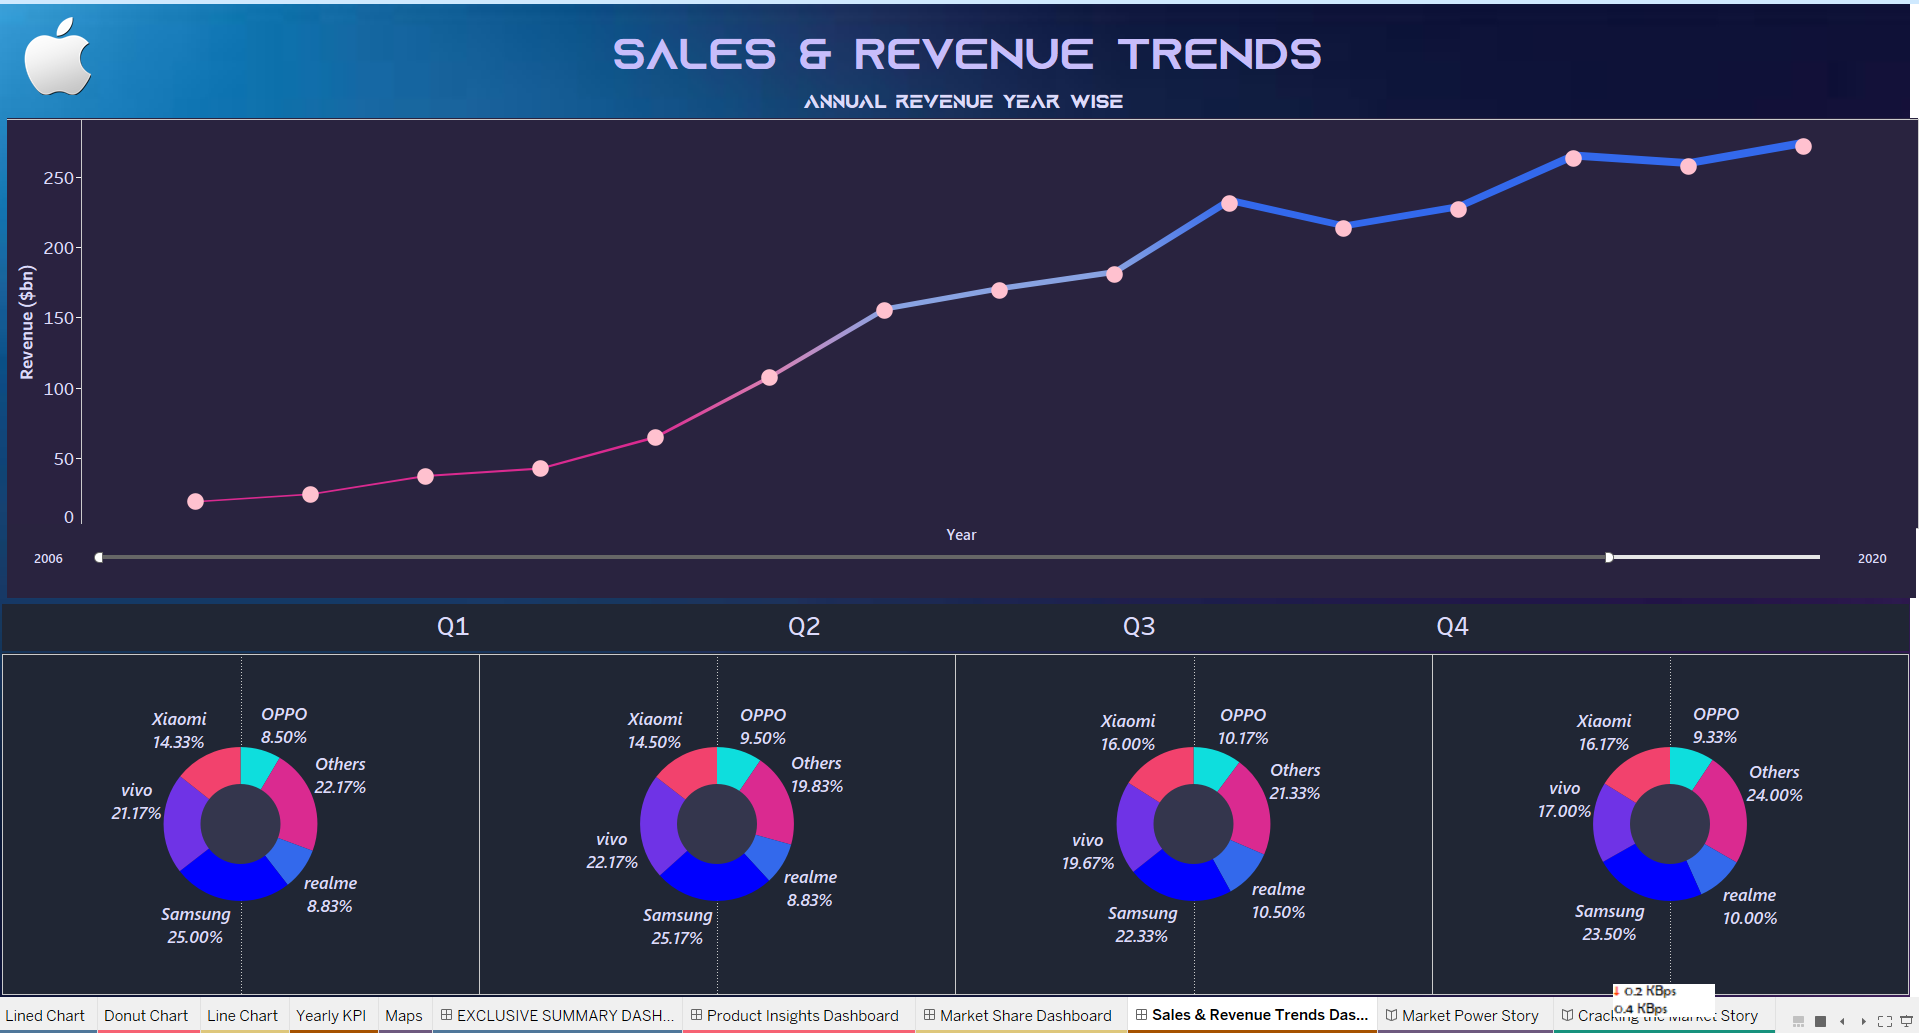

The page's visual inventory and layout, read from the dashboard file:
{"tool":"tableau","page":{"name":"Sales & Revenue Trends Dashboard","canvas":[1000,1000],"units":"permille","ordinal":3},"visuals":[{"type":"image","param":"Image/apple-logo-silver-gradient-background-ucqyu9mach40quya.png","box":[6.2,11.6,48,80.1]},{"type":"text","box":[54.2,11.6,899.7,81.3]},{"type":"worksheet","title":"Line Chart","mark":"Automatic","rows":["Revenue ($bn)","Revenue ($bn)"],"cols":["Year"],"box":[3.7,84.8,995.6,443.7]},{"type":"filter","title":"Line Chart","param":"[federated.1h6ibz302k1zxz15kuusk0qlljiq].[none:Year:qk]","box":[3.7,523.8,994.4,74.3]},{"type":"worksheet","title":"Donut Chart","mark":"Pie","cols":["Calculation_525795279736291330","Calculation_525795279737851915","Calculation_525795279736291330","Calculation_525795279737851915","Calculation_525795279736291330","Calculation_525795279737851915","Calculation_525795279736291330","Calculation_525795279737458693"],"box":[1.2,604,993.2,393.7]}]}

Visuals, with their boxes on the dashboard's canvas, which has no fixed pixel size, in thousandths of its width and height (x1, y1, x2, y2). These are canvas units, not pixel positions in the 1919x1033 screenshot, which may show the page scaled, cropped or inside an application window:
image: [6, 12, 54, 92]
text: [54, 12, 954, 93]
"Line Chart" worksheet: [4, 85, 999, 528]
"Line Chart" filter: [4, 524, 998, 598]
"Donut Chart" worksheet (Pie marks): [1, 604, 994, 998]
